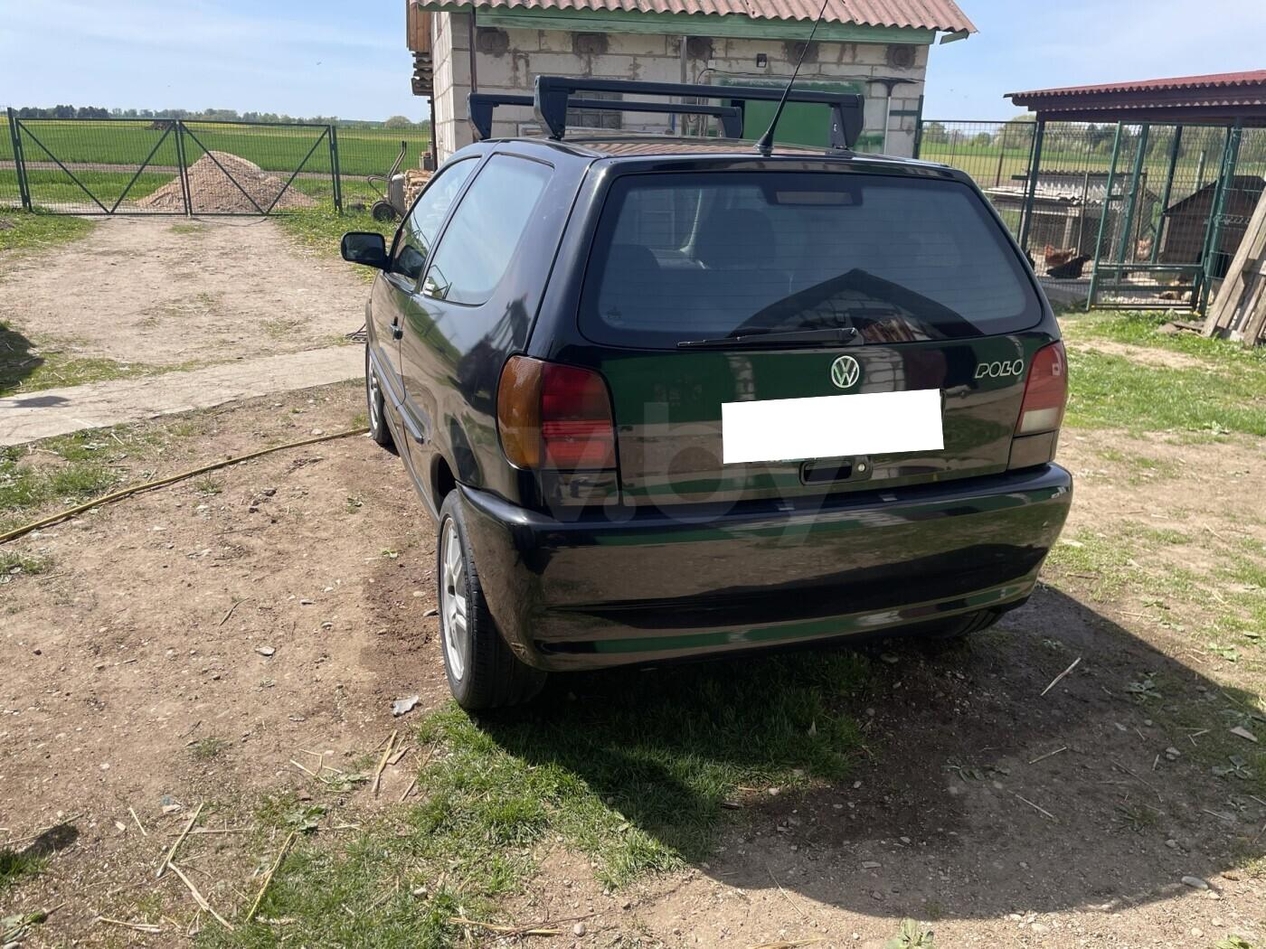Polo_1994-2002: (348, 137, 1076, 722)
